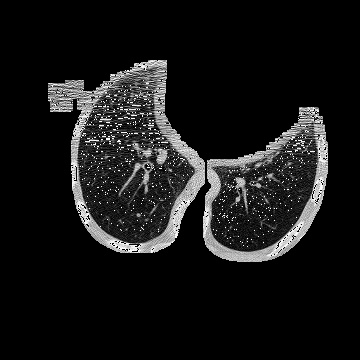PN: (137, 213, 141, 217)
